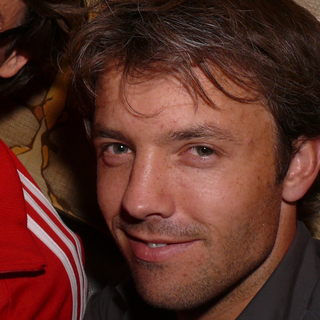eye: (169, 140, 232, 166), (96, 135, 139, 163)
